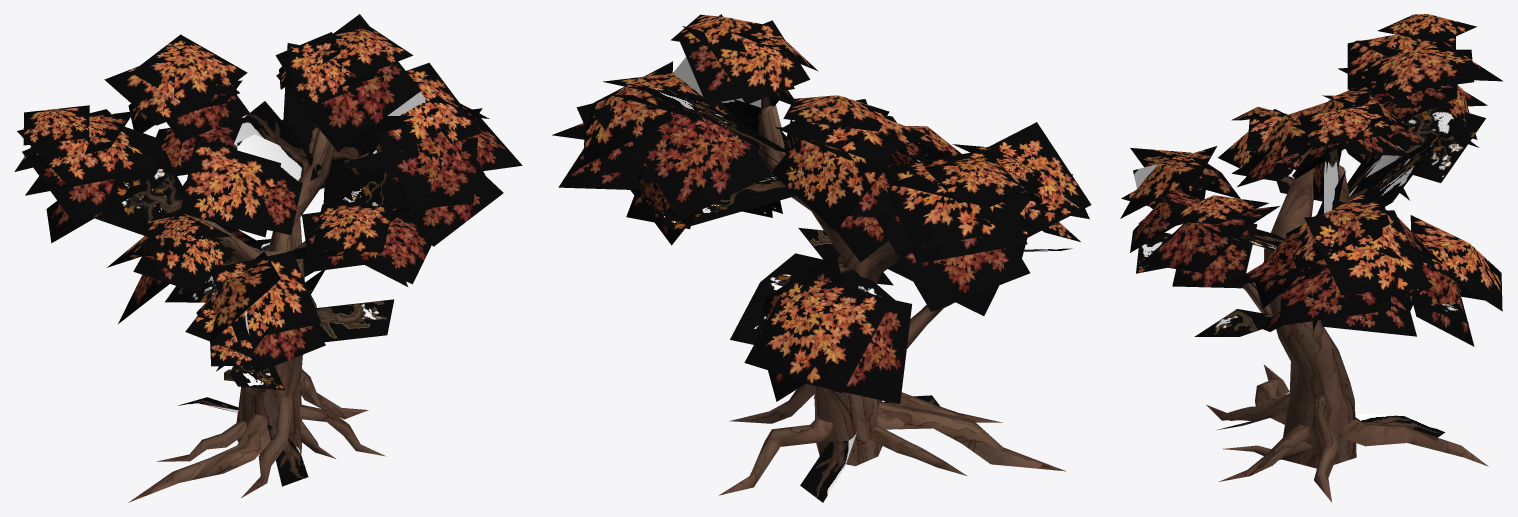
Rendered from 2_Plant_Fengshu_01.FBX.
The picture shows the model from 3 angles, left to right: view 1: azimuth 30°, elevation 25°; view 2: azimuth 150°, elevation 25°; view 3: azimuth 270°, elevation 25°; orthographic projection. The views are drawn at different scales.
Parts seen in each view (by area): view 1: 2_Plant_Fengshu_01_03, 2_Plant_Fengshu_01_01, 2_Plant_Fengshu_01_02, 2_Plant_Fengshu_01_05, 2_Plant_Fengshu_01_04; view 2: 2_Plant_Fengshu_01_03, 2_Plant_Fengshu_01_01, 2_Plant_Fengshu_01_02, 2_Plant_Fengshu_01_04, 2_Plant_Fengshu_01_05; view 3: 2_Plant_Fengshu_01_01, 2_Plant_Fengshu_01_02, 2_Plant_Fengshu_01_03, 2_Plant_Fengshu_01_05, 2_Plant_Fengshu_01_04.
Boxes of the visible parts, bbox=[...] form: 2_Plant_Fengshu_01_03: bbox=[14, 34, 302, 293]; 2_Plant_Fengshu_01_01: bbox=[91, 43, 434, 502]; 2_Plant_Fengshu_01_02: bbox=[275, 14, 522, 246]; 2_Plant_Fengshu_01_05: bbox=[185, 199, 437, 373]; 2_Plant_Fengshu_01_04: bbox=[107, 228, 260, 323]; 2_Plant_Fengshu_01_03: bbox=[771, 95, 1044, 311]; 2_Plant_Fengshu_01_01: bbox=[635, 14, 1072, 502]; 2_Plant_Fengshu_01_02: bbox=[552, 14, 818, 245]; 2_Plant_Fengshu_01_04: bbox=[744, 253, 911, 404]; 2_Plant_Fengshu_01_05: bbox=[886, 116, 1091, 257]; 2_Plant_Fengshu_01_01: bbox=[1133, 80, 1488, 502]; 2_Plant_Fengshu_01_02: bbox=[1225, 82, 1442, 336]; 2_Plant_Fengshu_01_03: bbox=[1218, 14, 1503, 200]; 2_Plant_Fengshu_01_05: bbox=[1120, 146, 1279, 288]; 2_Plant_Fengshu_01_04: bbox=[1410, 215, 1502, 346].
Size of the model in its own units: 1239 by 1004 by 875.
2 materials, 2 textured.
